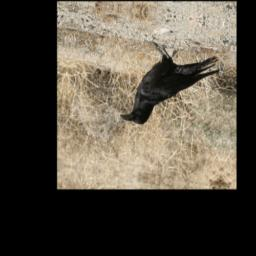Crow: (119, 38, 222, 136)
